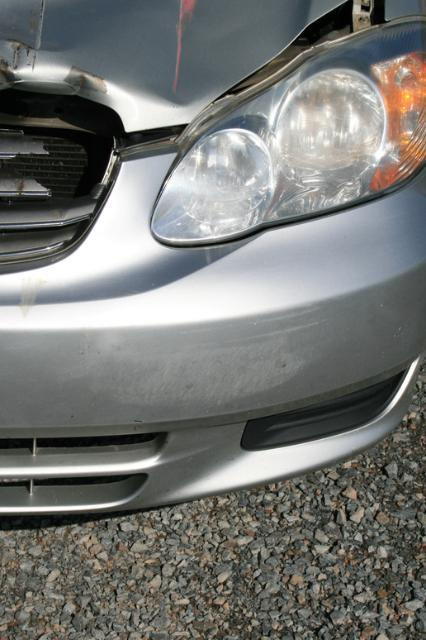Bonnet: (0, 19, 217, 138)
